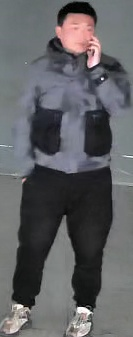phone: (52, 1, 132, 116)
